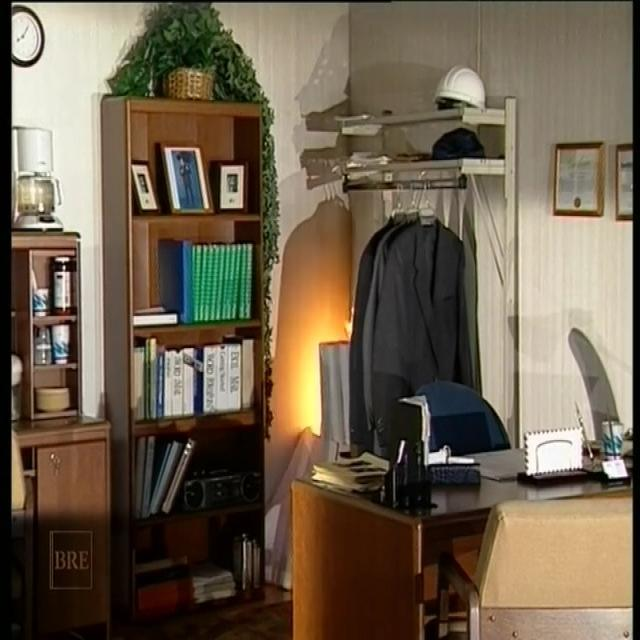Fire: (290, 293, 344, 425)
